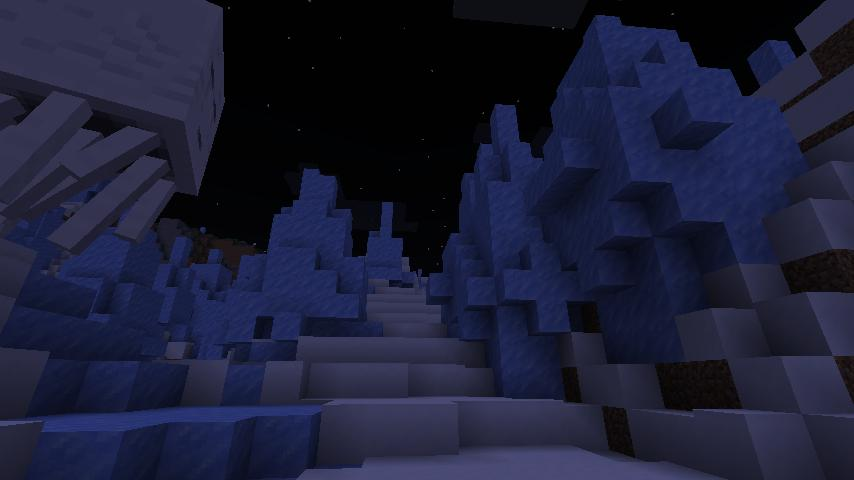ghast: (0, 0, 228, 257)
